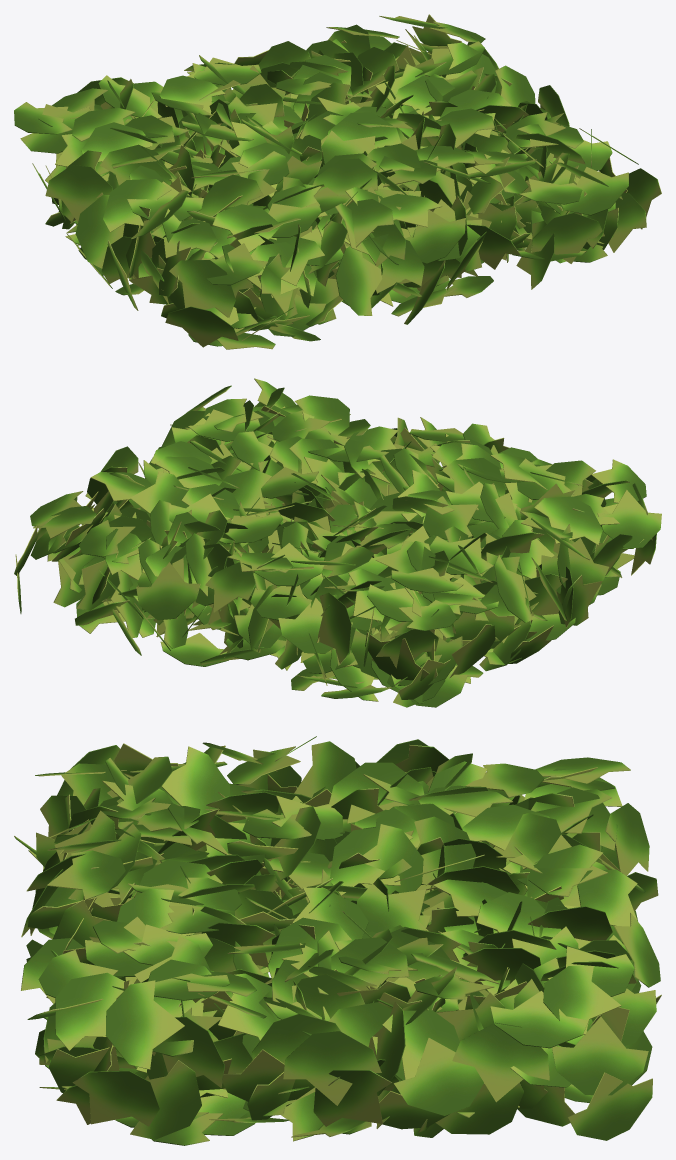
The model's file is LeafyBunch.fbx.
3 views of the same model, one above another, from view 1: azimuth 30°, elevation 25°; view 2: azimuth 150°, elevation 25°; view 3: azimuth 270°, elevation 25° (orthographic). The views are drawn at different scales.
Parts seen in each view (by area): view 1: LeafyBunch; view 2: LeafyBunch; view 3: LeafyBunch.
Part boxes in pixels (x1,y1,x2,y2): LeafyBunch: [14, 14, 661, 349]; LeafyBunch: [14, 378, 661, 707]; LeafyBunch: [14, 736, 661, 1145].
Bounding box in the file's own units: 158 × 39.71 × 142.
Materials: 1 (1 with a texture image).
